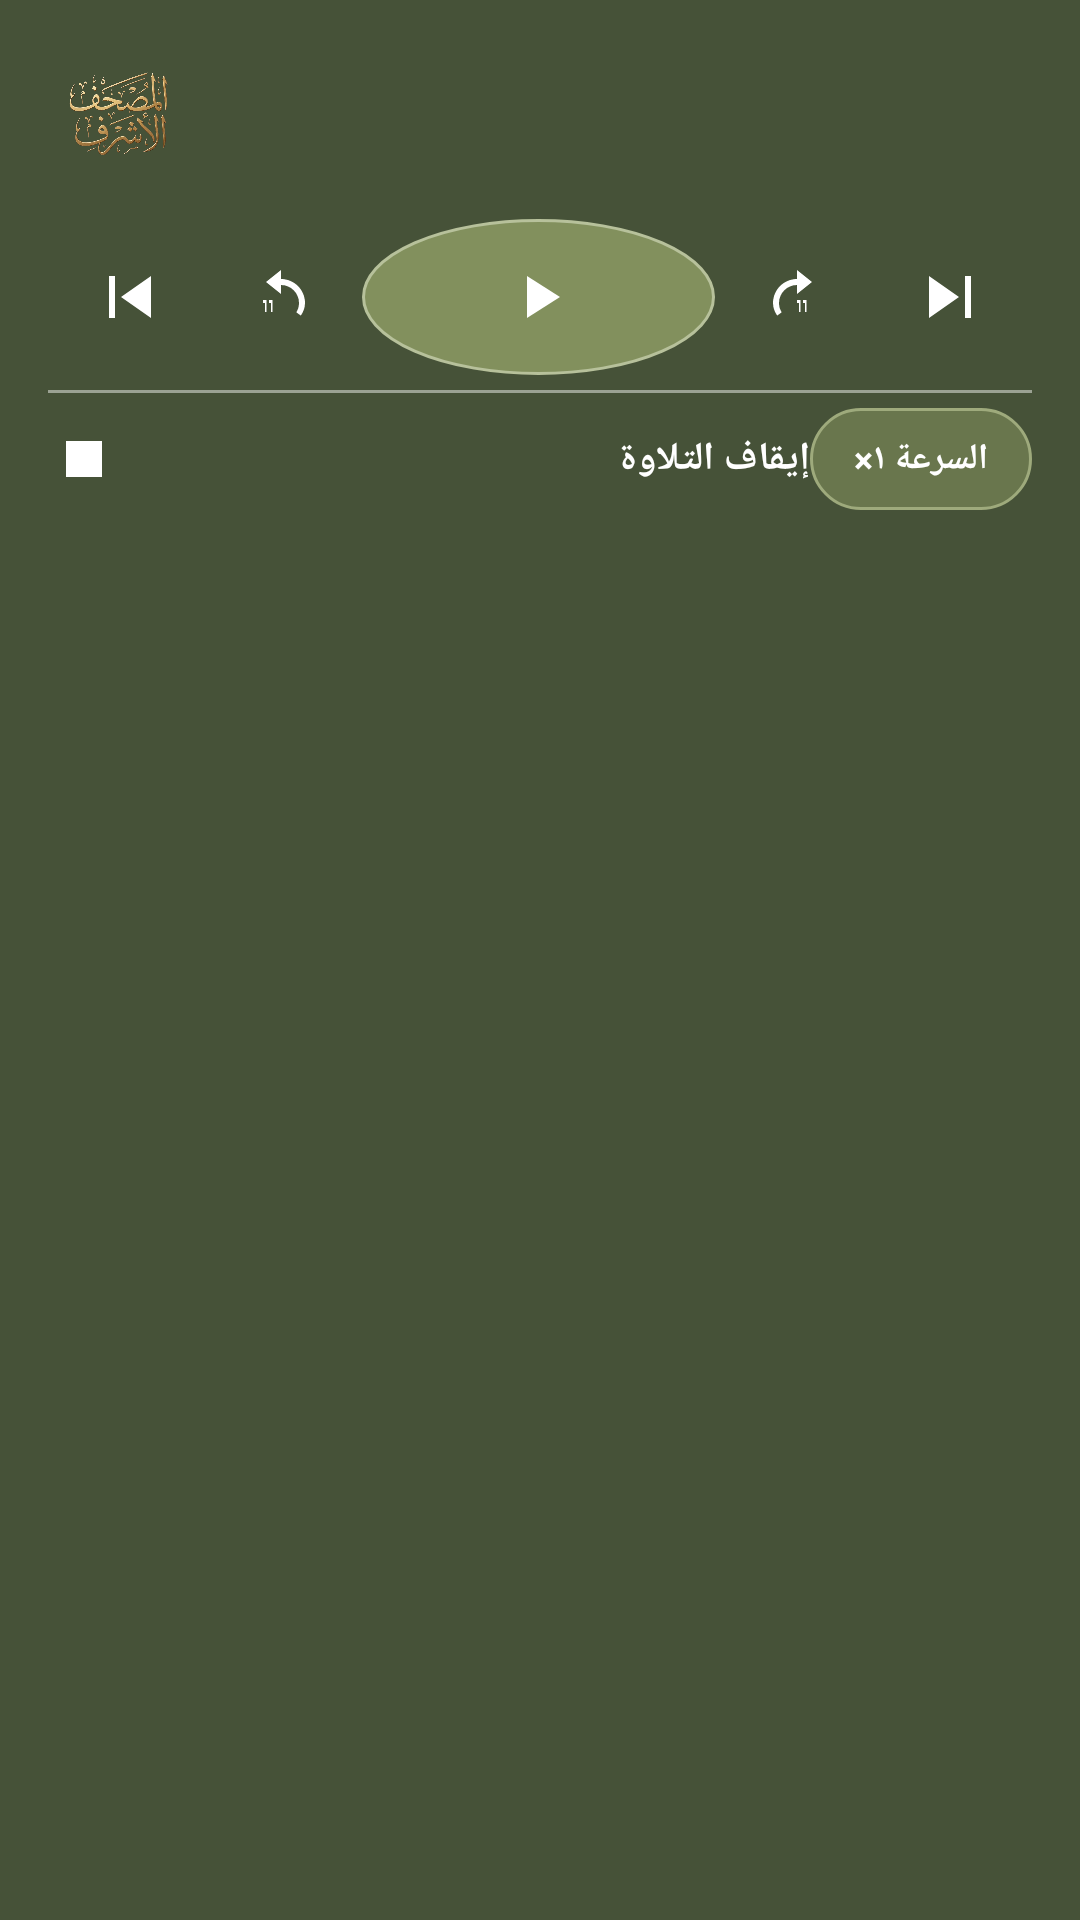

Where icons sit on this 1080px x 1920px app screen, as bbox=[x1, y1, x2, y2]:
إرجاع ١٠ ثوانٍ: bbox=[263, 270, 305, 316]
الآية التالية: bbox=[929, 276, 971, 318]
الآية السابقة: bbox=[109, 276, 151, 318]
تشغيل أو إيقاف مؤقت: bbox=[362, 219, 715, 375]
تقديم ١٠ ثوانٍ: bbox=[773, 270, 812, 316]
